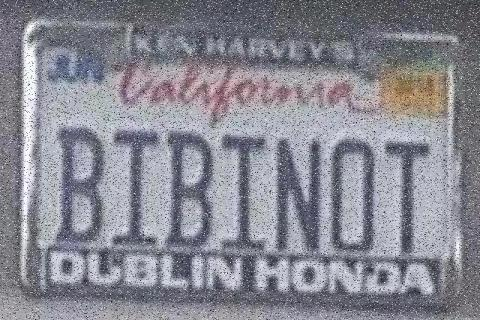LicensePlate: (19, 12, 465, 304)
